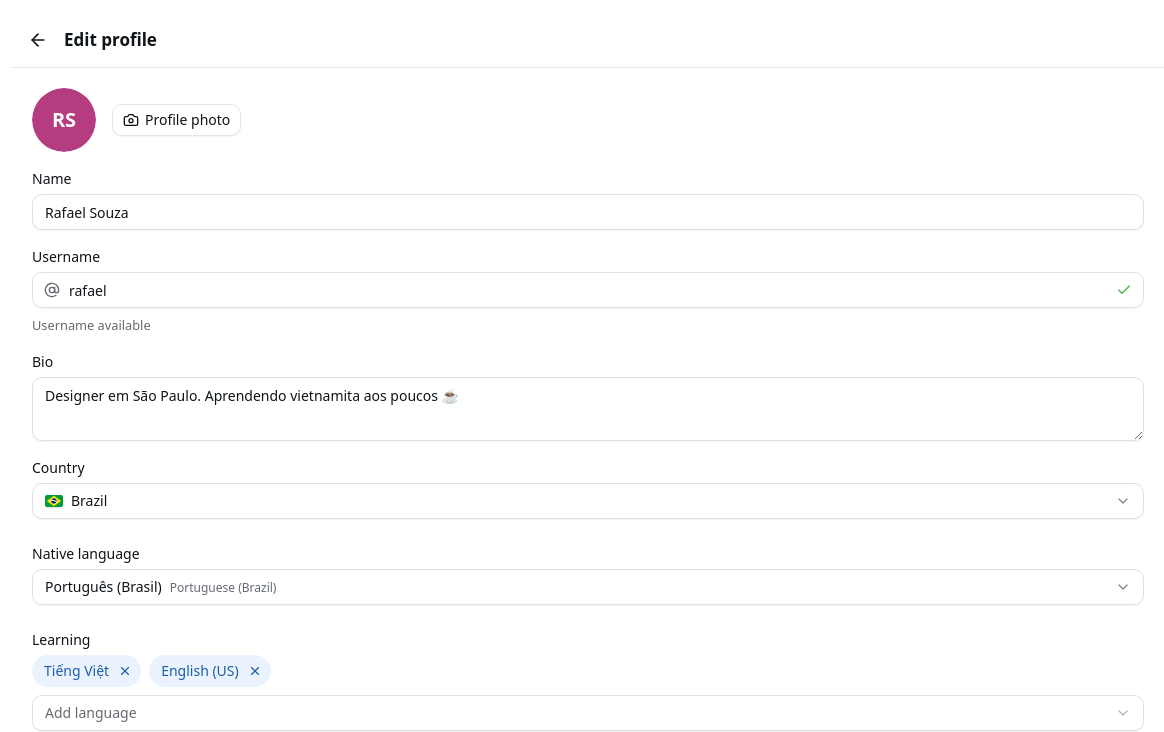
Test: profile › edits the profile, including languages
Step 1. Replace the text in the field labelled "Name" with "Rafael A." → (588, 212), box [32,194,1144,230]
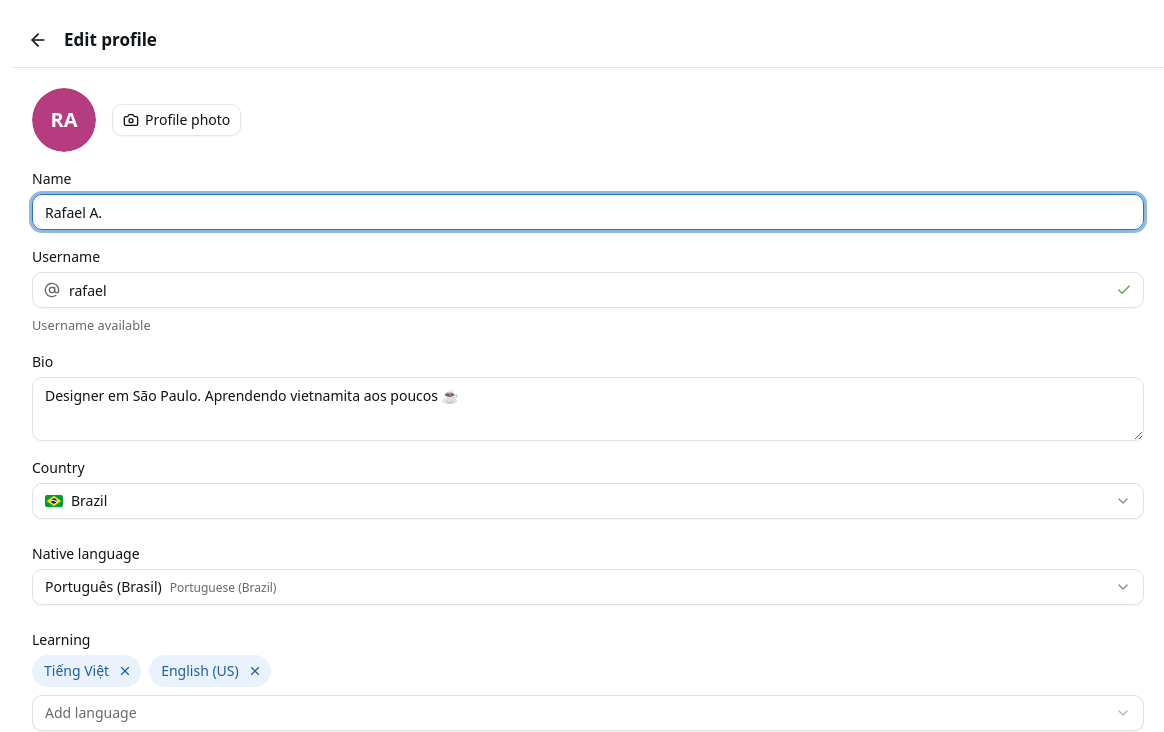
Step 2. Click the button named "Remove English (US)" → click(255, 671), box [243,659,267,683]
(page scrolled)
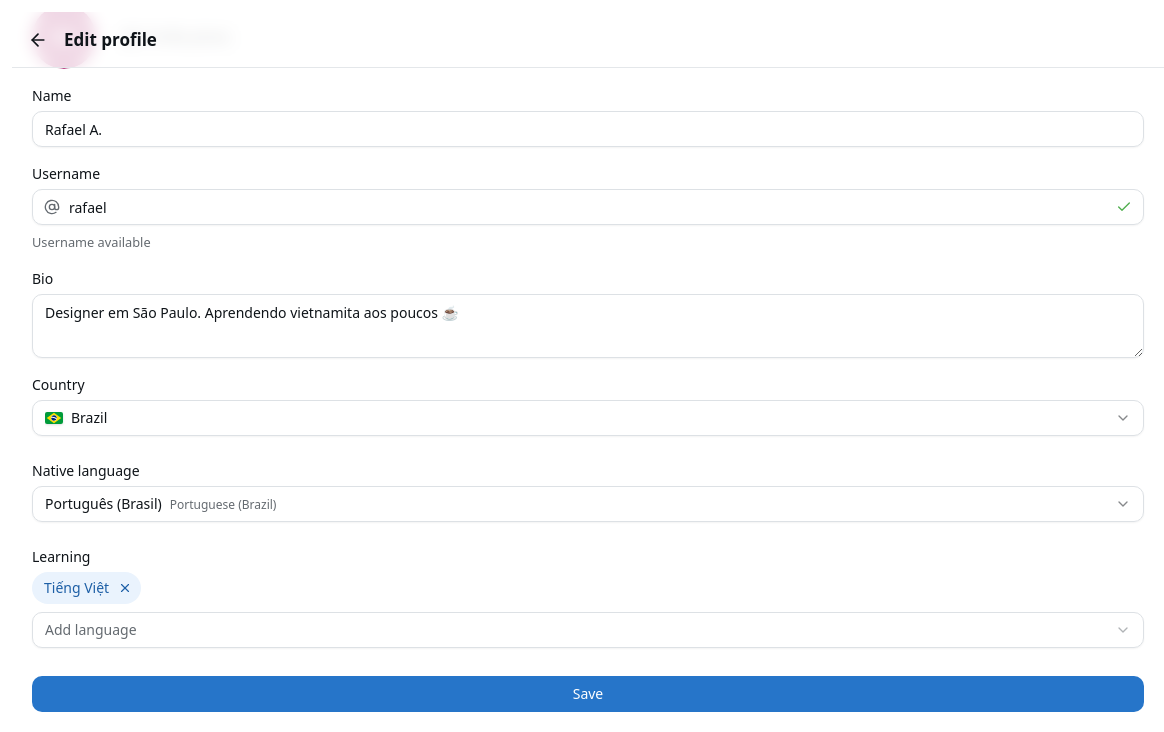
Step 3. Click the button "Save" → click(588, 694), box [32,676,1144,712]
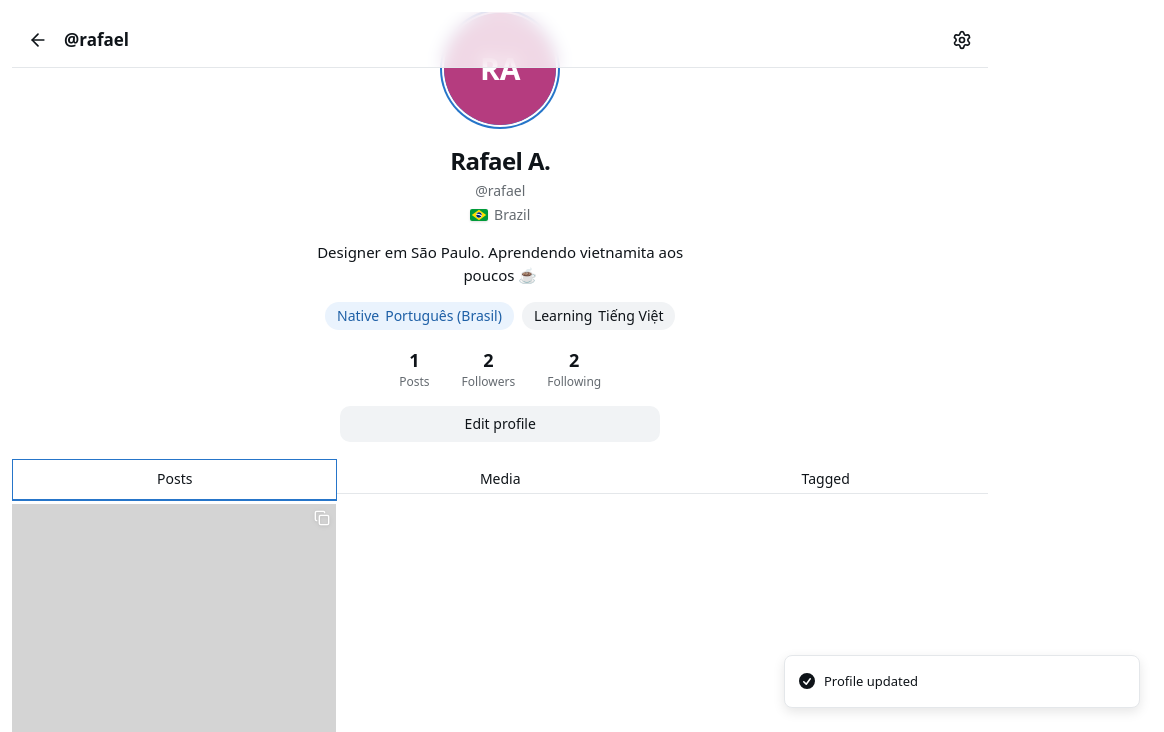
Now the heading "Rafael A." is shown, box [450,145,550,177]
